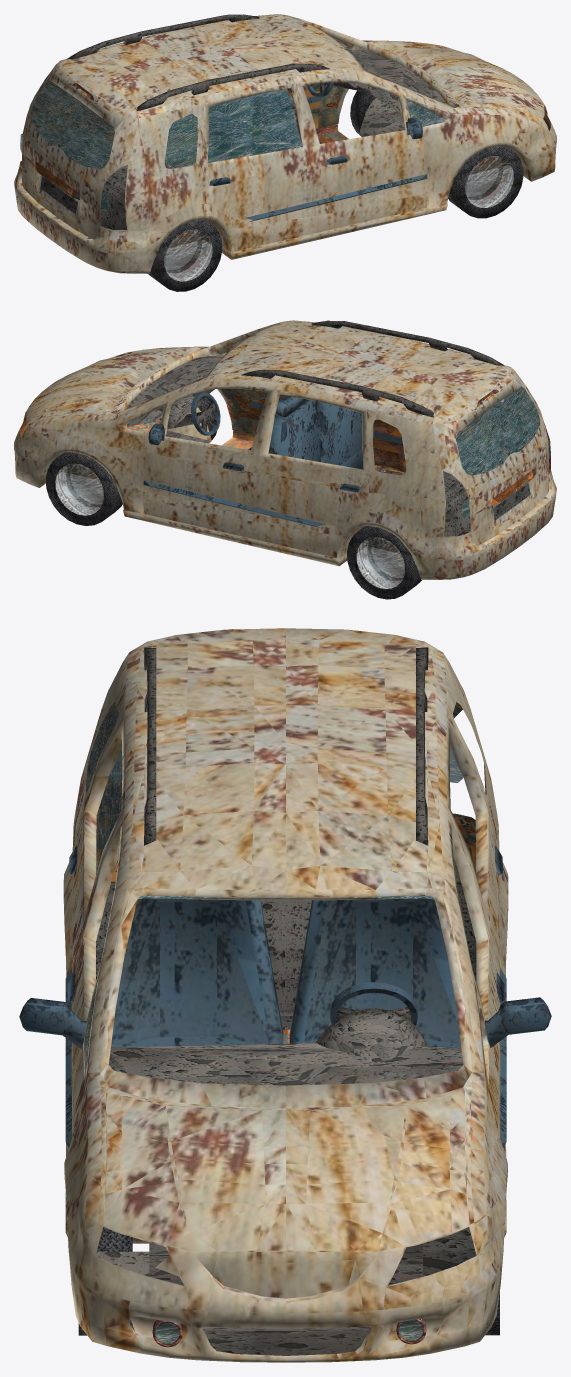
Rendered from wreck_car.glb.
3 views of the same model, one above another, from view 1: azimuth 30°, elevation 25°; view 2: azimuth 150°, elevation 25°; view 3: azimuth 270°, elevation 25° (orthographic). The views are drawn at different scales.
Visible parts, largest first — view 1: prop; view 2: prop; view 3: prop.
Part boxes in pixels (<box>): prop: <box>14,14,556,291</box>; prop: <box>14,320,556,599</box>; prop: <box>19,628,551,1362</box>.
Bounding box in the file's own units: 4.29 × 1.6 × 2.06.
10 materials, 10 textured.
